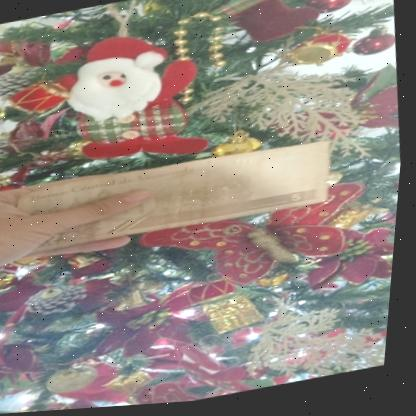five-back-vef: (13, 138, 341, 257)
